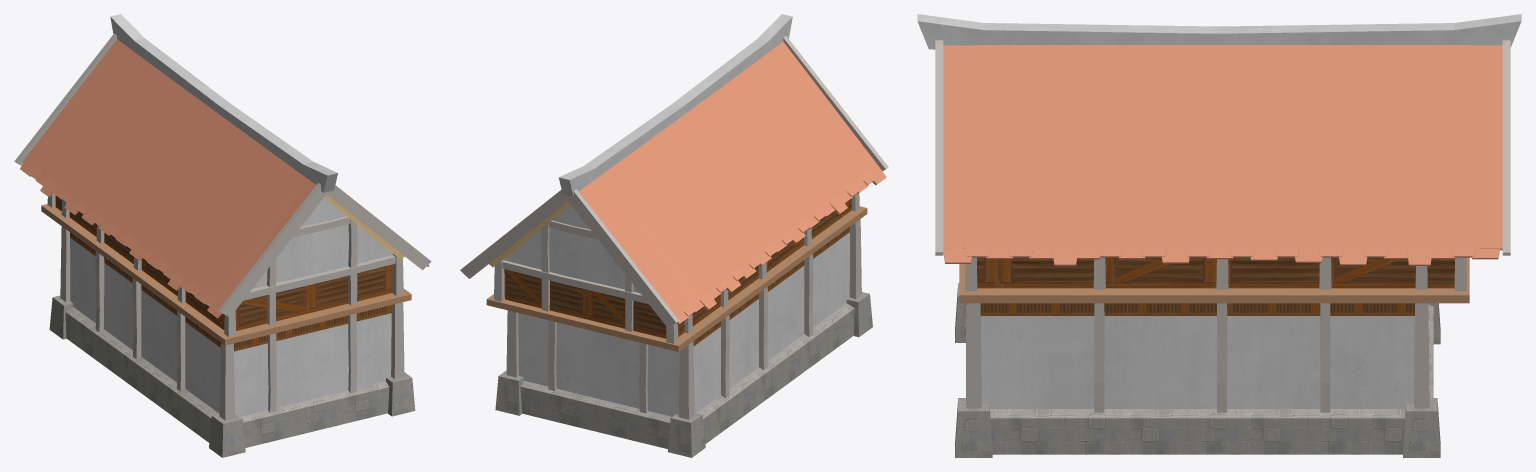
Rendered from Building_A_01.fbx.
3 views of the same model, side by side, from view 1: azimuth 30°, elevation 25°; view 2: azimuth 150°, elevation 25°; view 3: azimuth 270°, elevation 25° (orthographic). The views are drawn at different scales.
Visible parts, largest first — view 1: Building_A_01; view 2: Building_A_01; view 3: Building_A_01.
Part boxes in pixels (left/top/right/bottom): Building_A_01: left=14, top=14, right=431, bottom=457; Building_A_01: left=460, top=14, right=888, bottom=457; Building_A_01: left=917, top=14, right=1521, bottom=457.
Bounding box in the file's own units: 1560 × 1856 × 2708.
